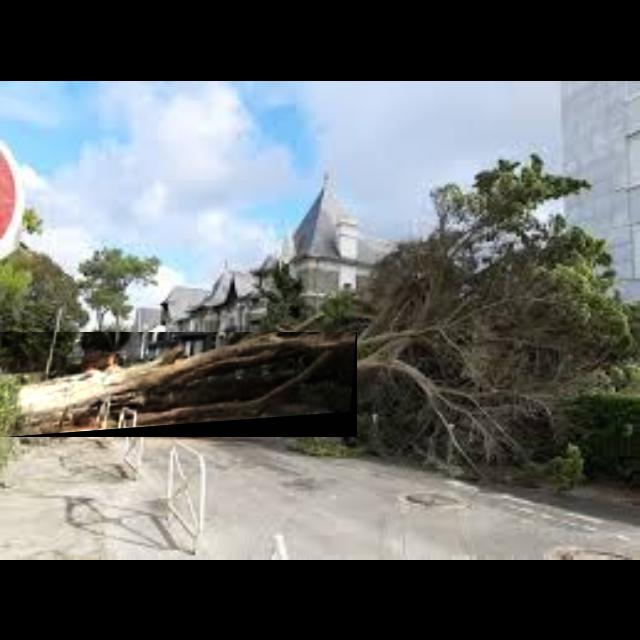Fallen Tree: (0, 332, 358, 438)
